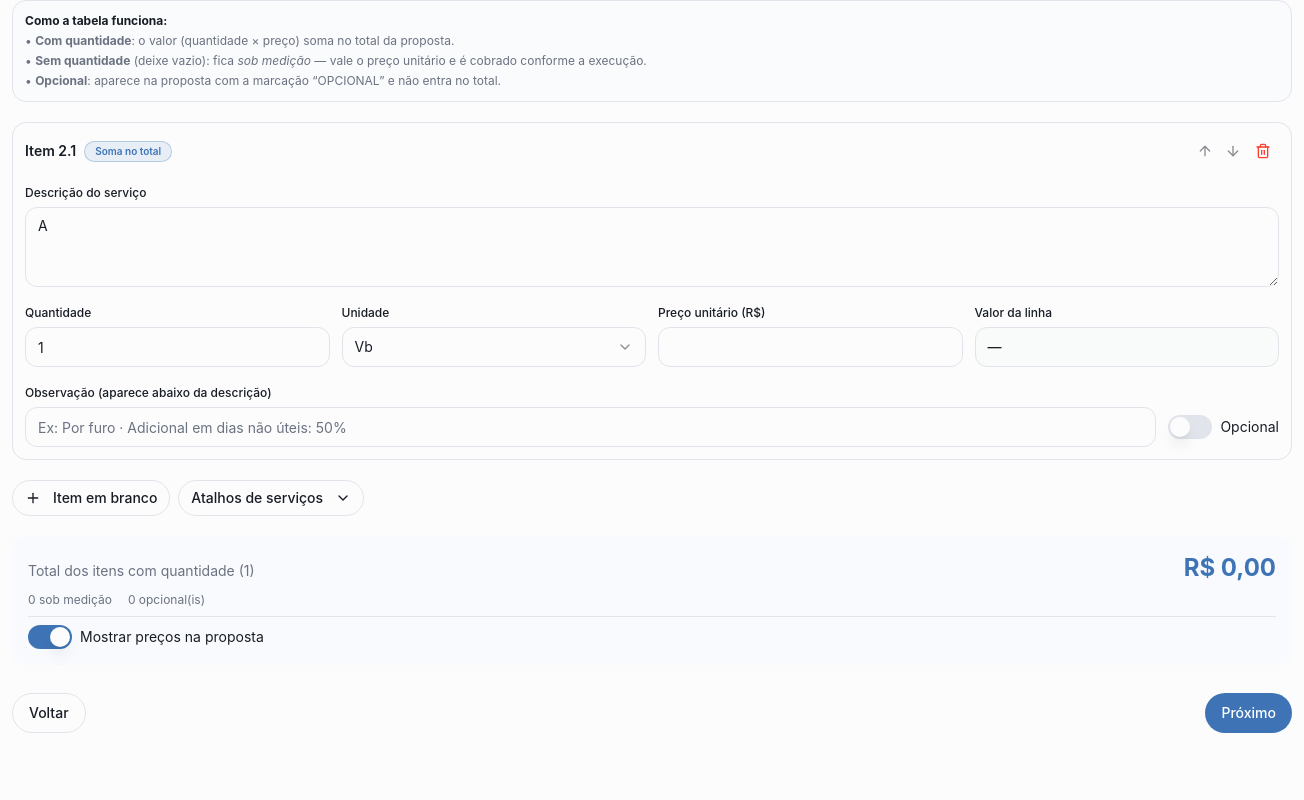
Test: etapa de preços › esconder preços mostra o aviso
The image size is (1304, 800).
expect the text "Com os preços escondidos" is not shown: met
Click the switch next to "Mostrar preços na proposta". click: (50, 637)
box: [28, 625, 72, 649]
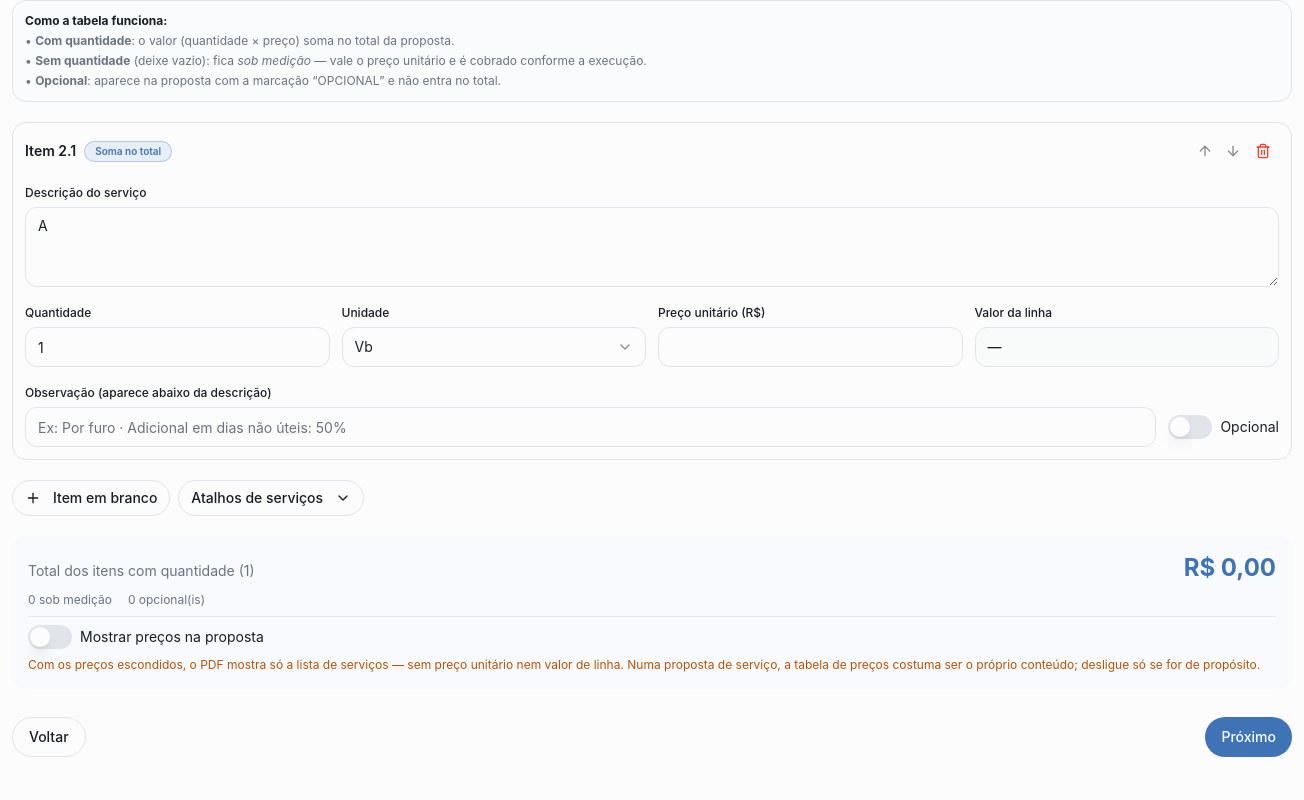
expect the text "Com os preços escondidos" is shown: met, box [28, 657, 1260, 672]
